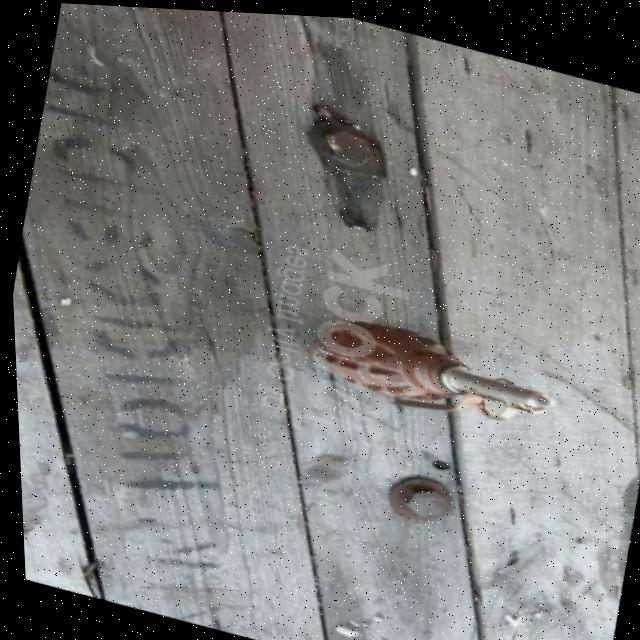grenade: (292, 300, 553, 439)
